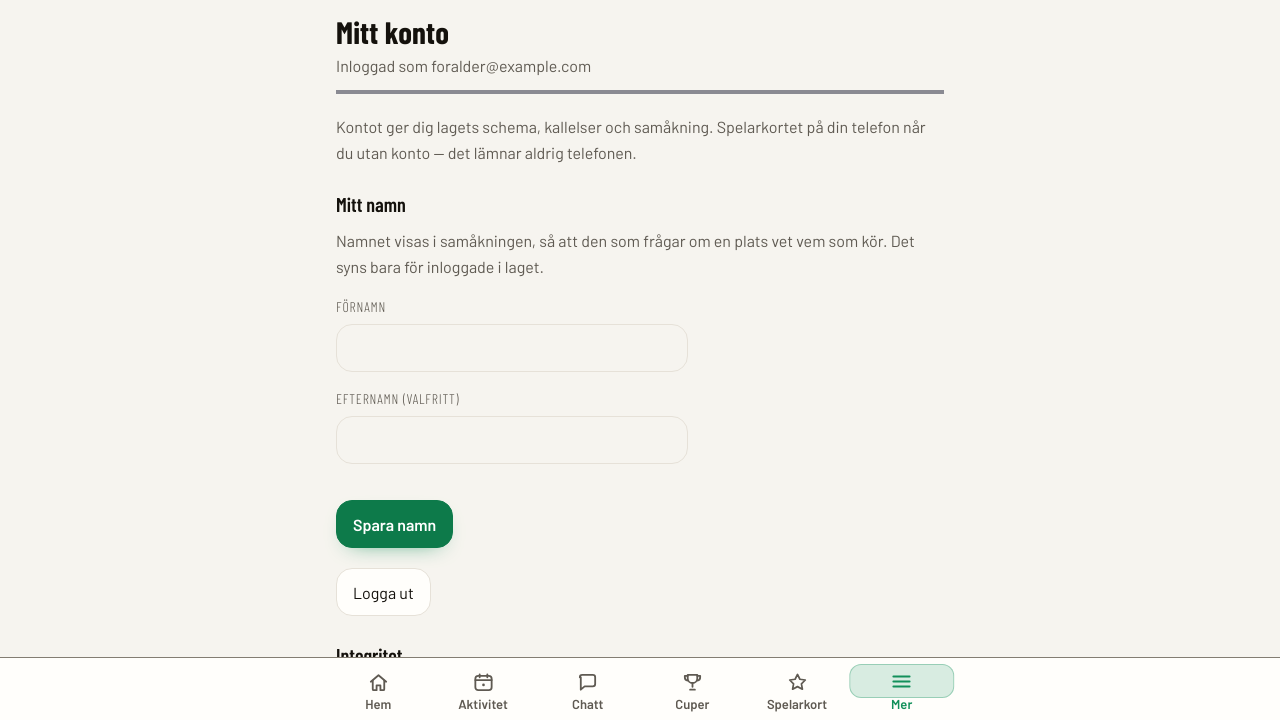
Test: appen frågar efter namnet en gång › kräver ett förnamn men inte ett efternamn
Click the button "Spara namn" at (395, 524), box [336, 500, 453, 548]
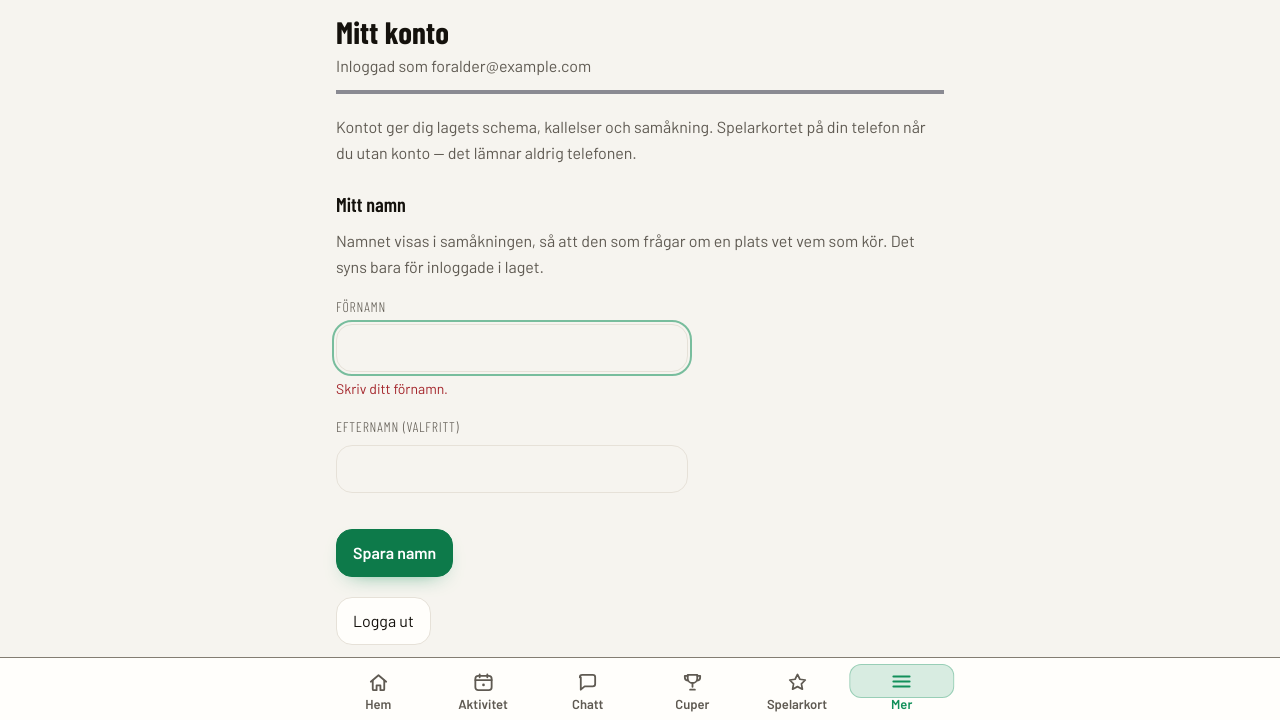
Check: the text "Skriv ditt förnamn." is shown, box [336, 380, 448, 397]
